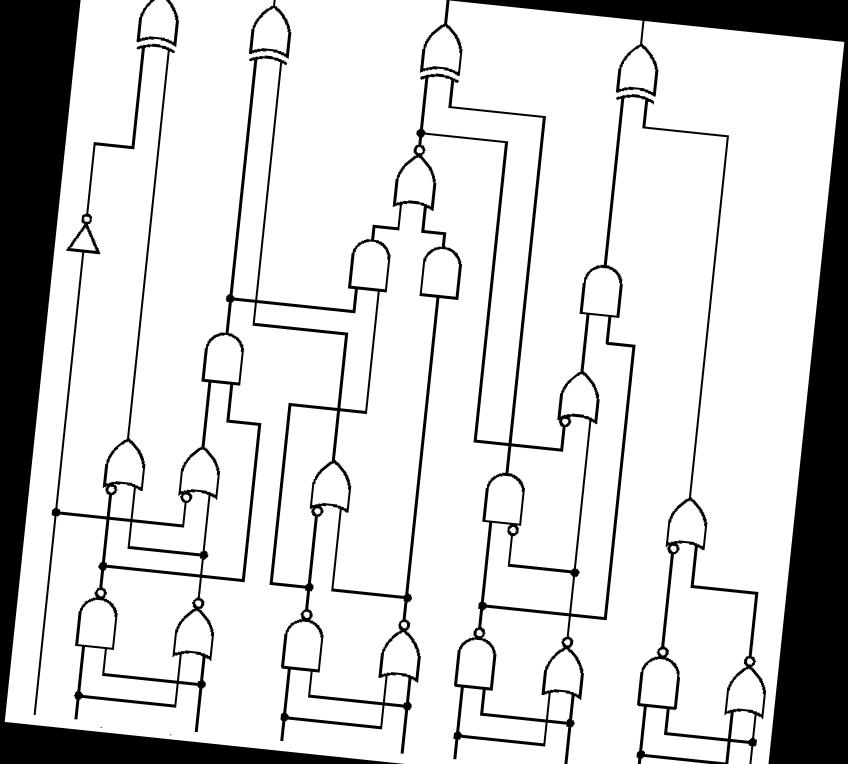and: (572, 255, 630, 324), (194, 323, 249, 391), (412, 238, 467, 304), (342, 230, 395, 298)
nand: (630, 638, 688, 717), (274, 601, 332, 679), (447, 620, 505, 698), (68, 579, 125, 656)
nor: (386, 137, 448, 216), (717, 645, 774, 724), (536, 626, 591, 704), (167, 588, 222, 665), (372, 611, 429, 685)
not: (61, 206, 108, 259)
xor: (610, 36, 668, 108), (414, 15, 470, 88), (243, 0, 298, 70), (130, 0, 185, 57)
